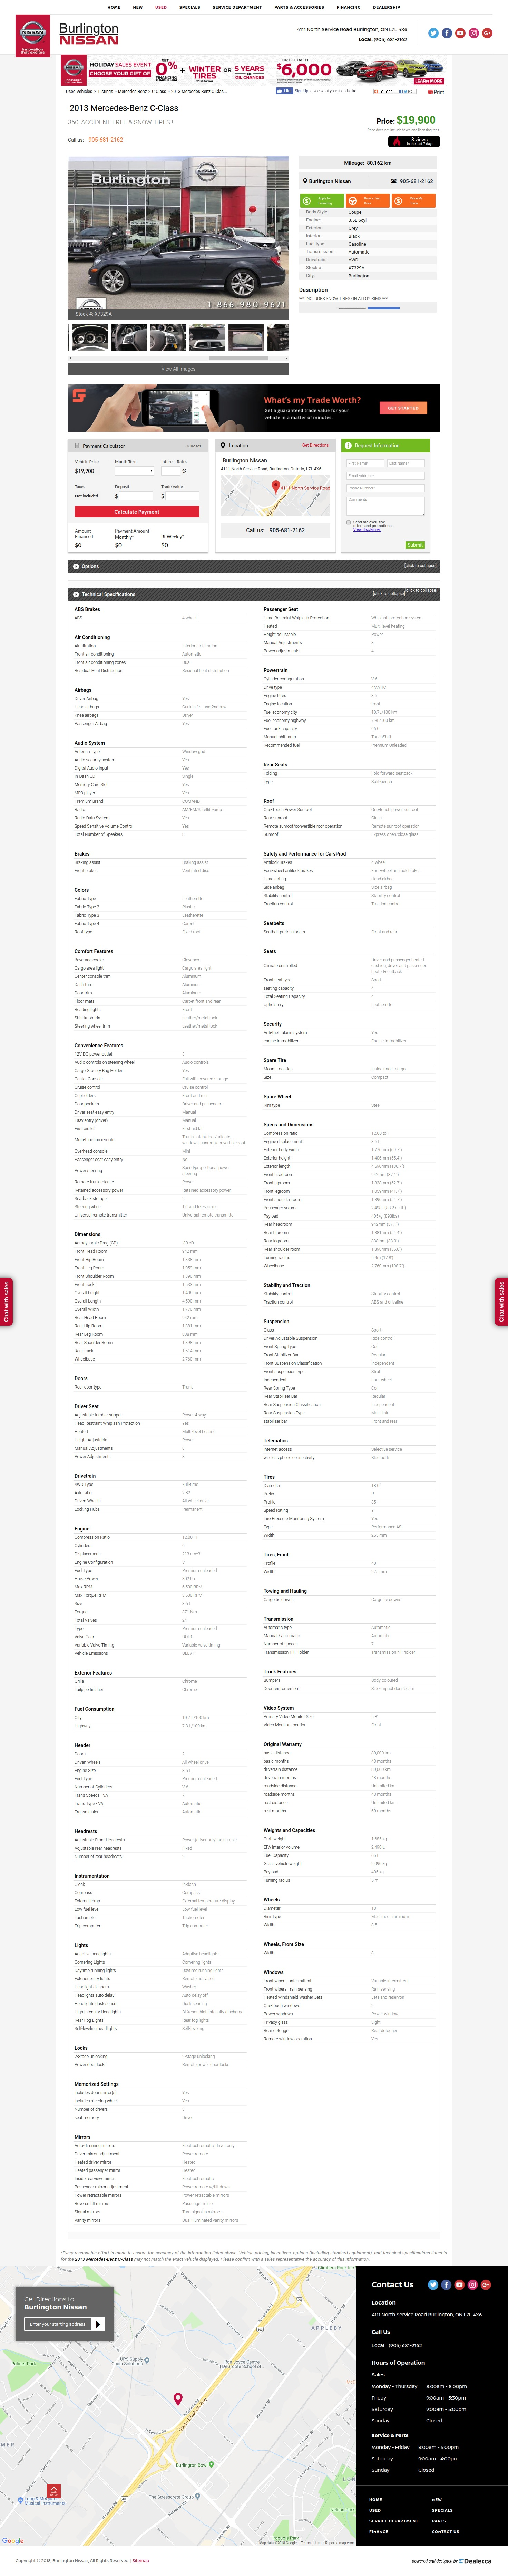car: (273, 232, 291, 248)
